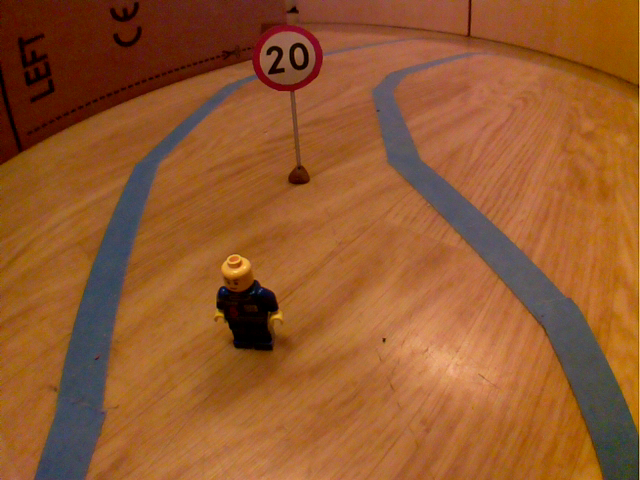Ograniczenie 20: (248, 22, 327, 94)
Postac LEGO: (207, 247, 290, 359)
